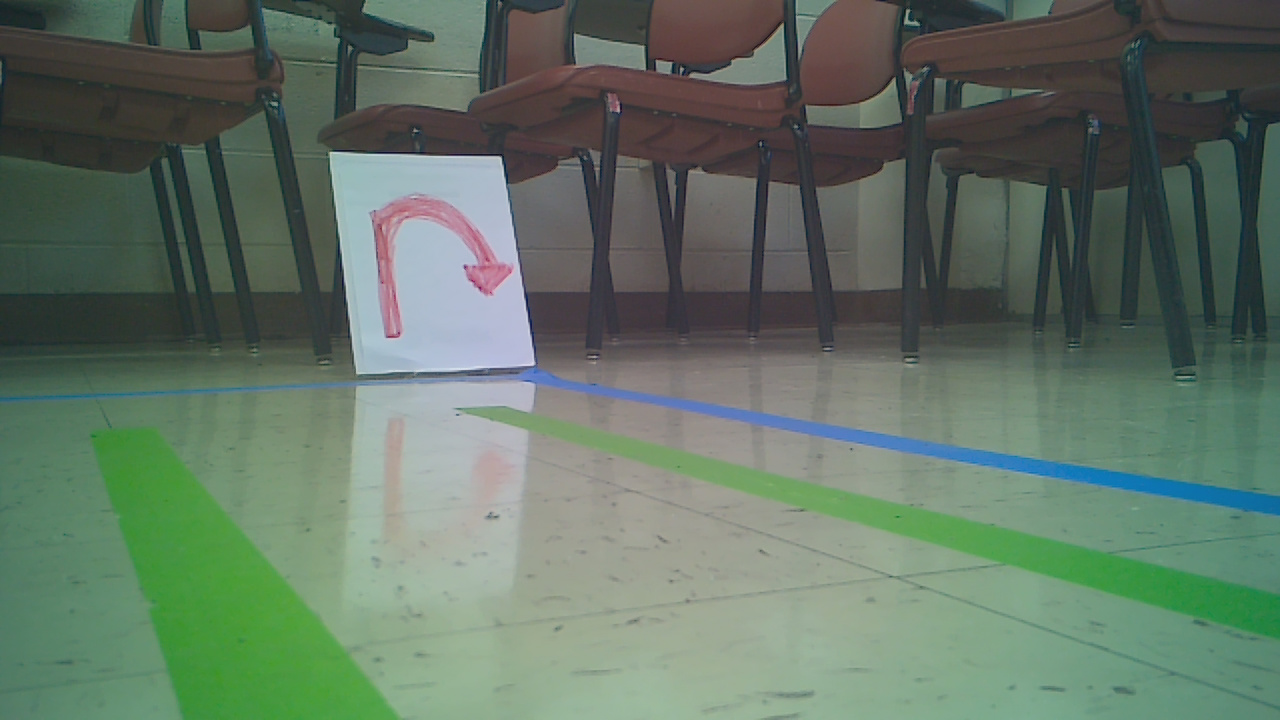greenline: (463, 409, 1280, 628), (92, 429, 396, 719)
uturn: (373, 194, 515, 339)
